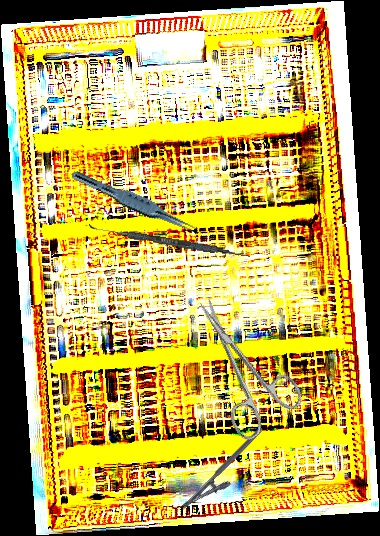Iris Scissors: (173, 281, 310, 444)
Needle Holder: (180, 426, 275, 521)
Spatula Surgical: (87, 224, 251, 259)
Tissue Forceps: (67, 168, 202, 238)
